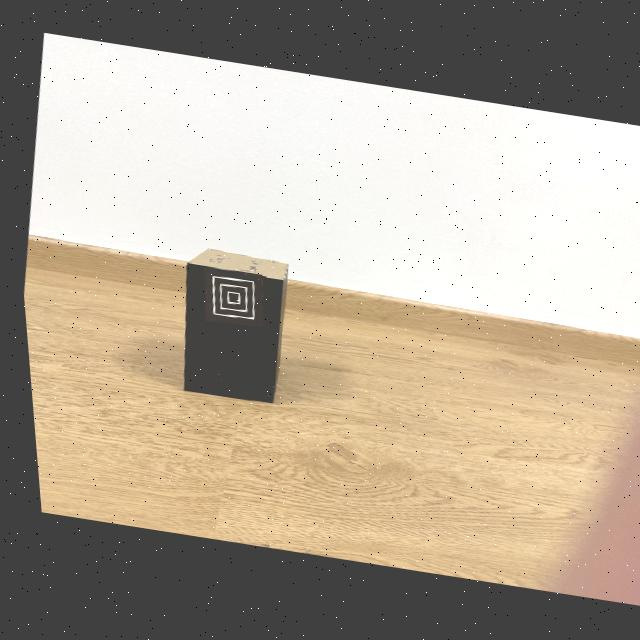BULLSEYE: (199, 268, 258, 330)
